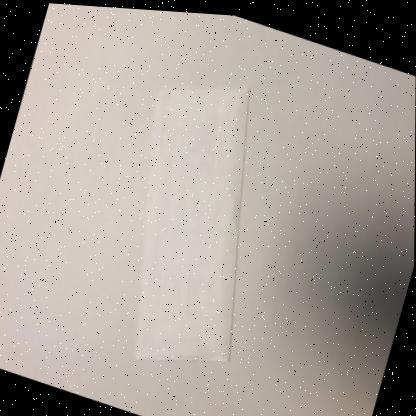Paper: (136, 85, 249, 358)
